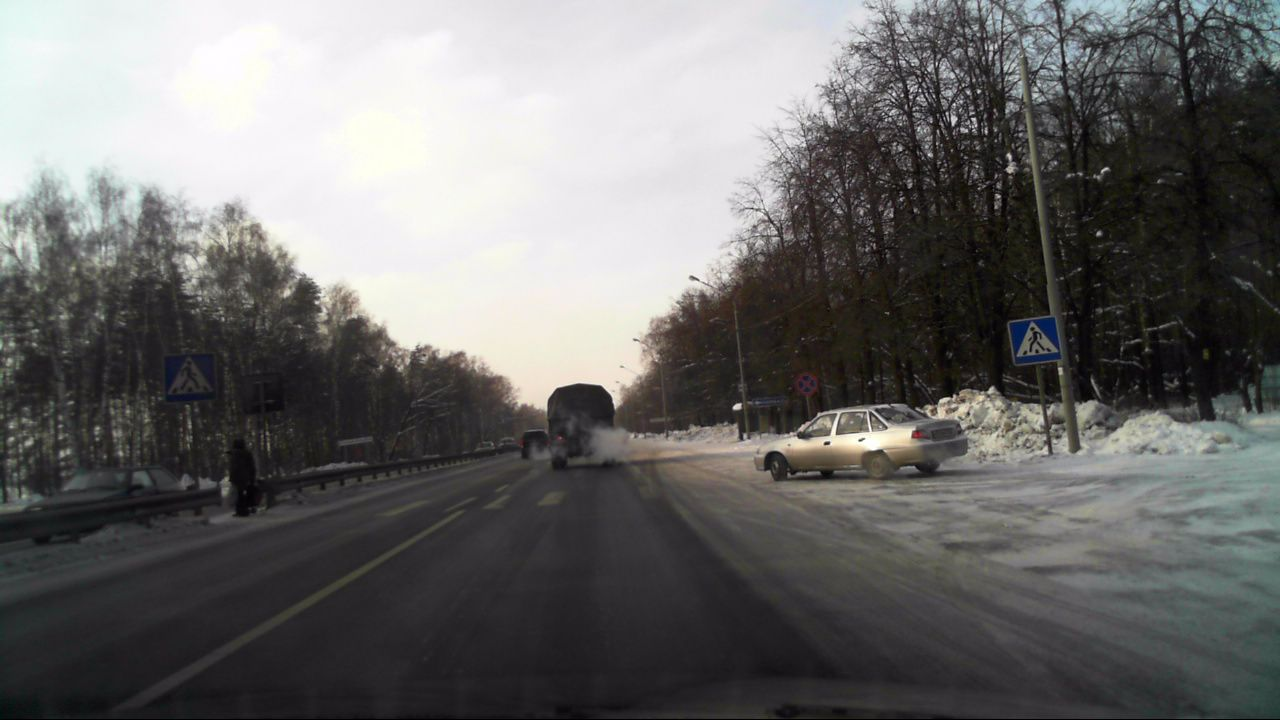No Parking: (796, 372, 817, 396)
